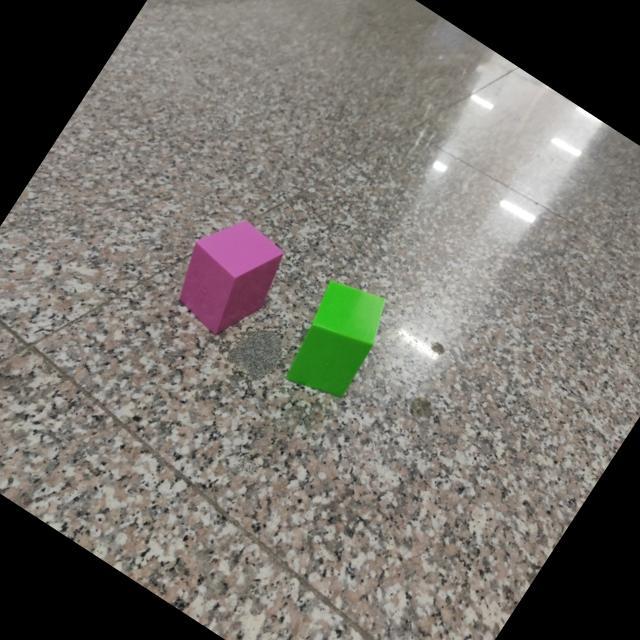green: (285, 281, 384, 398)
pink: (178, 221, 282, 337)
